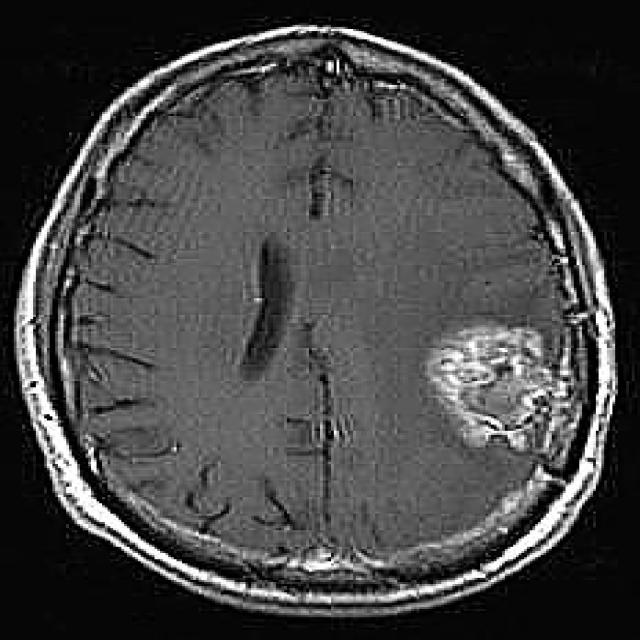Tumor-Cell: (407, 290, 554, 460)
